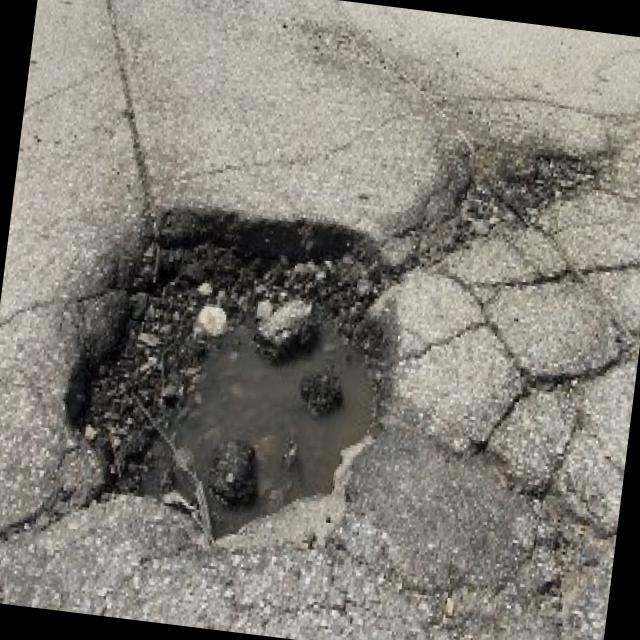bad-road: (42, 185, 416, 577), (436, 138, 598, 268)
